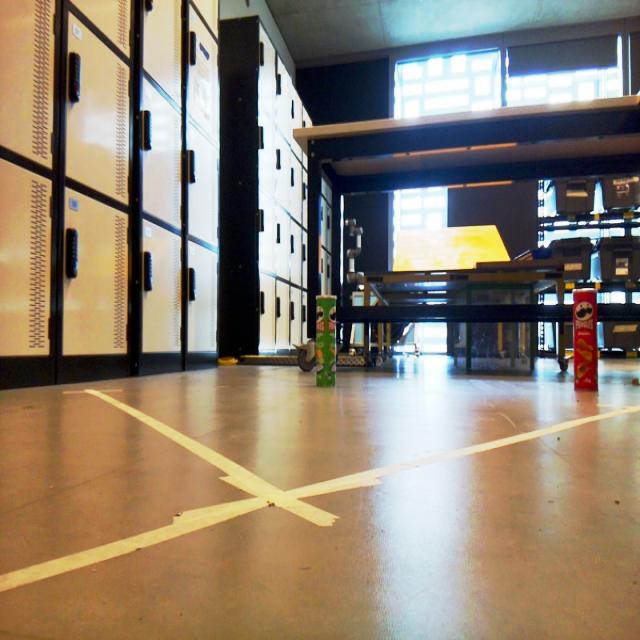greenpringles: (298, 287, 346, 398)
redpringles: (562, 268, 608, 404)
